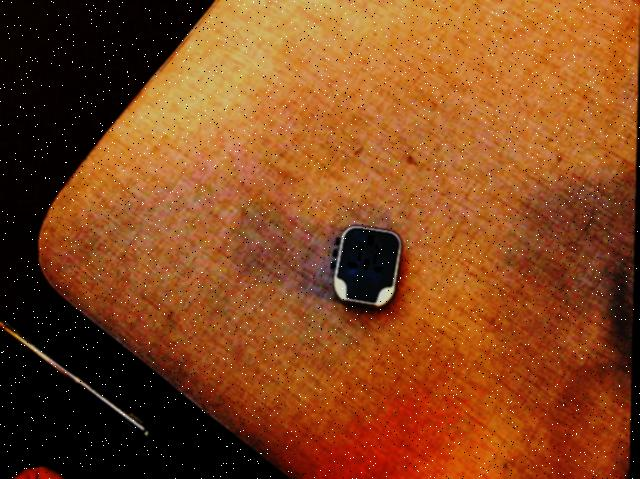adapter: (330, 225, 403, 309)
